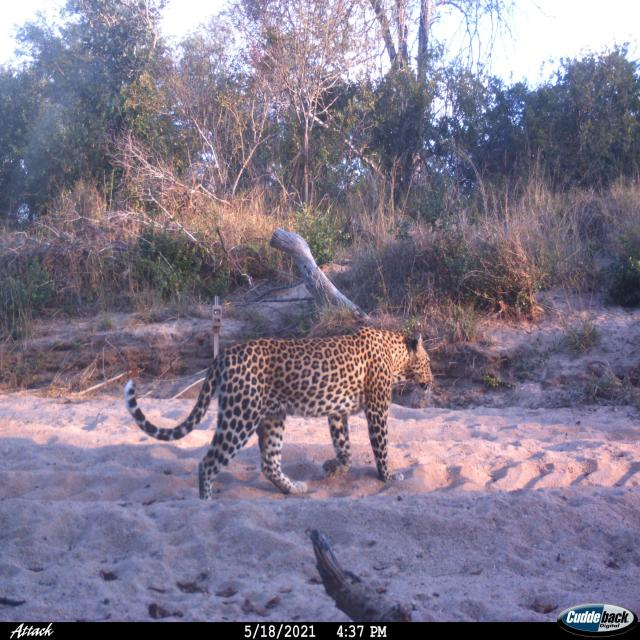Leopard: (138, 307, 423, 508)
